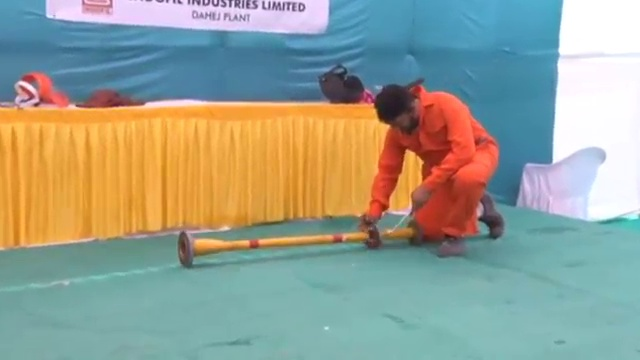helmet_off: (373, 85, 419, 132)
person: (369, 81, 503, 252)
